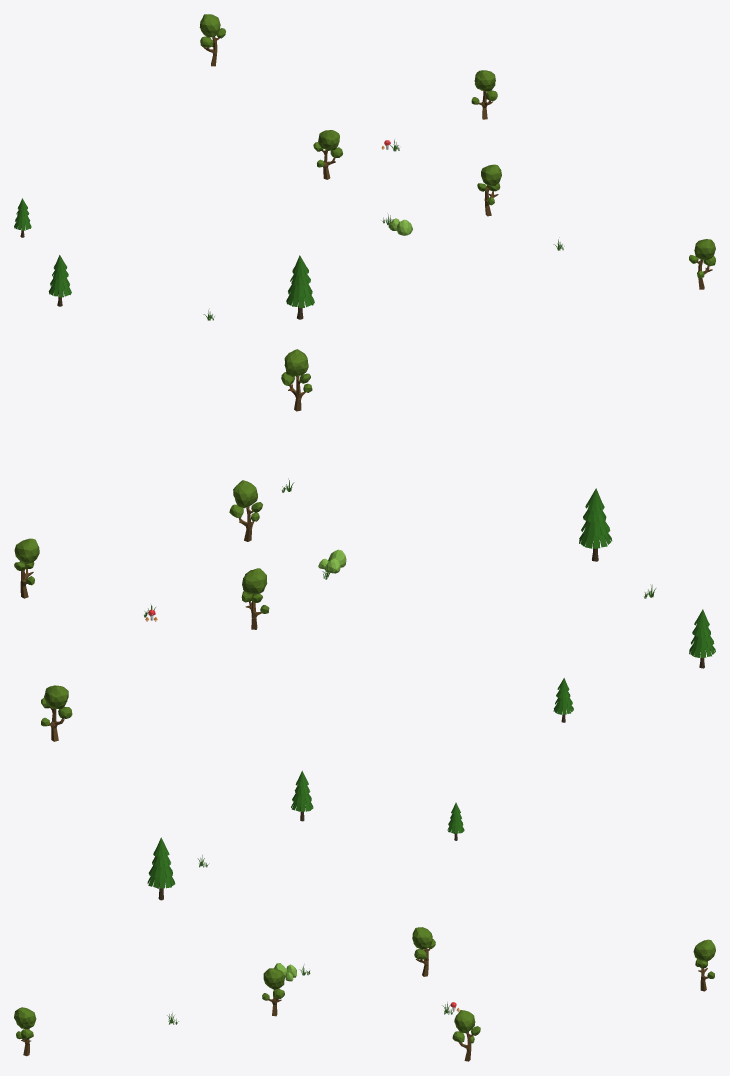
File: Trees_level2.glb
The picture shows the model from 3 angles, top to bottom: view 1: azimuth 30°, elevation 25°; view 2: azimuth 150°, elevation 25°; view 3: azimuth 270°, elevation 25°; orthographic projection. The views are drawn at different scales.
Visible parts, largest first — view 1: Trees_level2; view 2: Trees_level2; view 3: Trees_level2.
Part boxes in pixels (left/top/right/bottom): Trees_level2: left=14, top=14, right=715, bottom=320; Trees_level2: left=14, top=349, right=715, bottom=741; Trees_level2: left=14, top=770, right=715, bottom=1061.
Size of the model in its own units: 6.6 by 0.7646 by 7.85.
